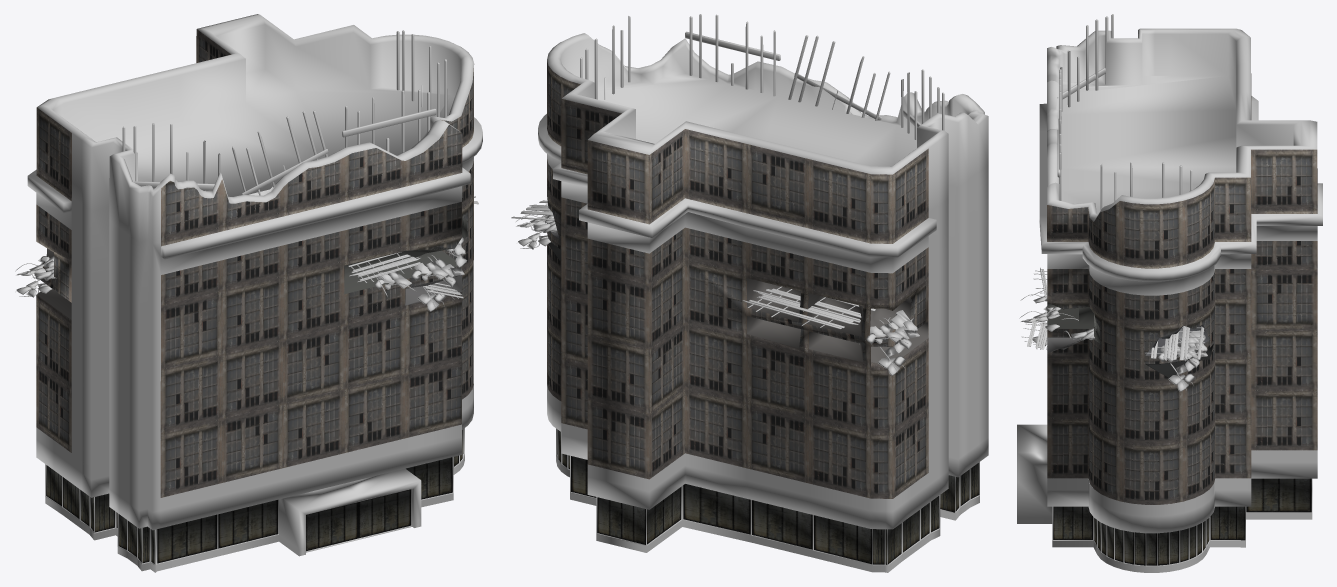
The model's file is SM_Building_01.FBX.
3 renders of one model, left to right at view 1: azimuth 30°, elevation 25°; view 2: azimuth 150°, elevation 25°; view 3: azimuth 270°, elevation 25°, orthographic. The views are drawn at different scales.
Parts seen in each view (by area): view 1: SM_Building_01_LOD0; view 2: SM_Building_01_LOD0; view 3: SM_Building_01_LOD0.
Boxes of the visible parts, x1,y1,x2,y2 form: SM_Building_01_LOD0: [15, 14, 482, 572]; SM_Building_01_LOD0: [511, 14, 988, 572]; SM_Building_01_LOD0: [1017, 14, 1322, 572].
Size of what is drawn, in the model's own units: 6967 by 6701 by 4632.
